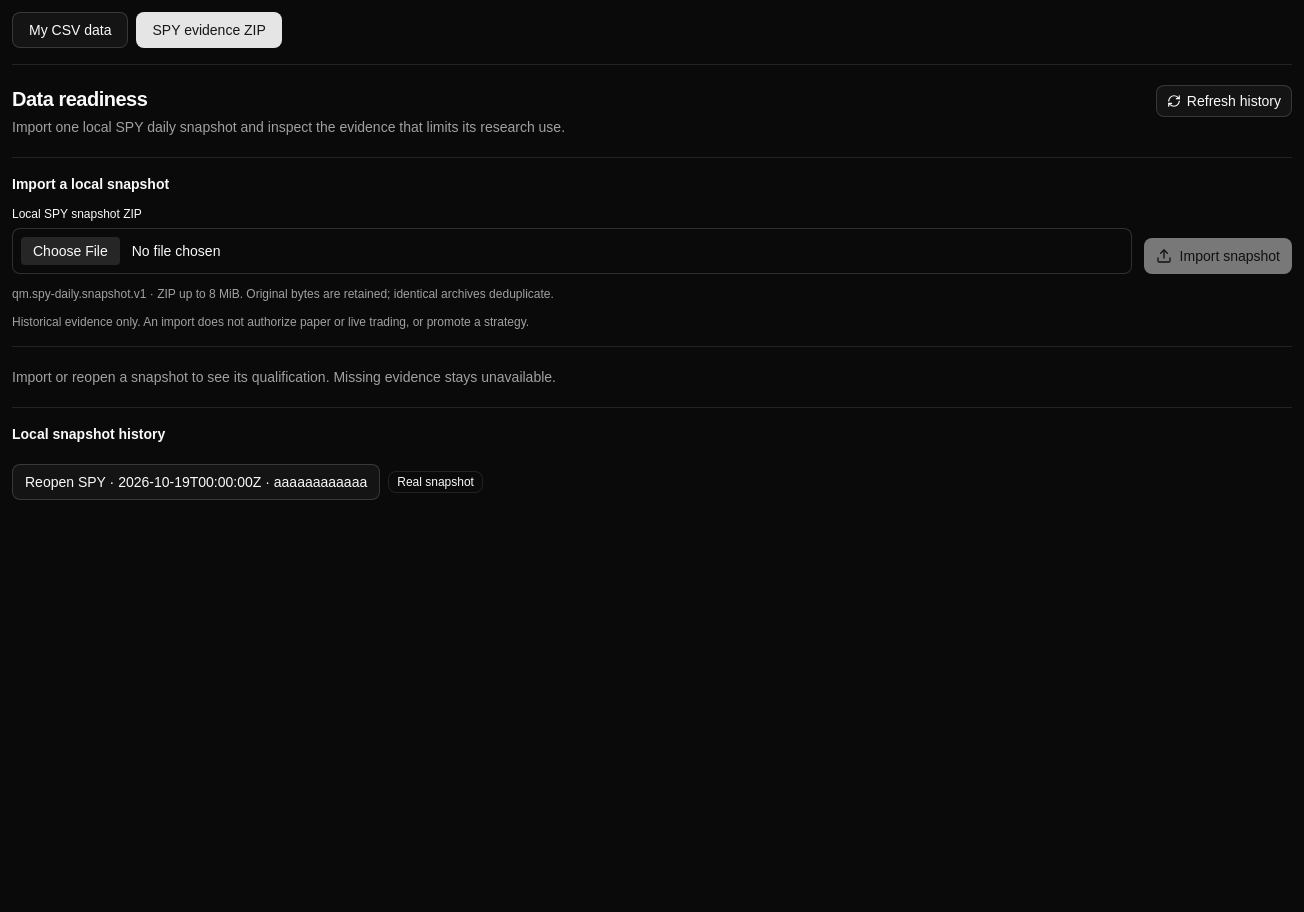
Test: puts both original download actions in qualification before technical checks
Click the button "Reopen SPY · 2026-10-19T00:00:00Z · aaaaaaaaaaaa" at (196, 482), box [12,464,380,500]
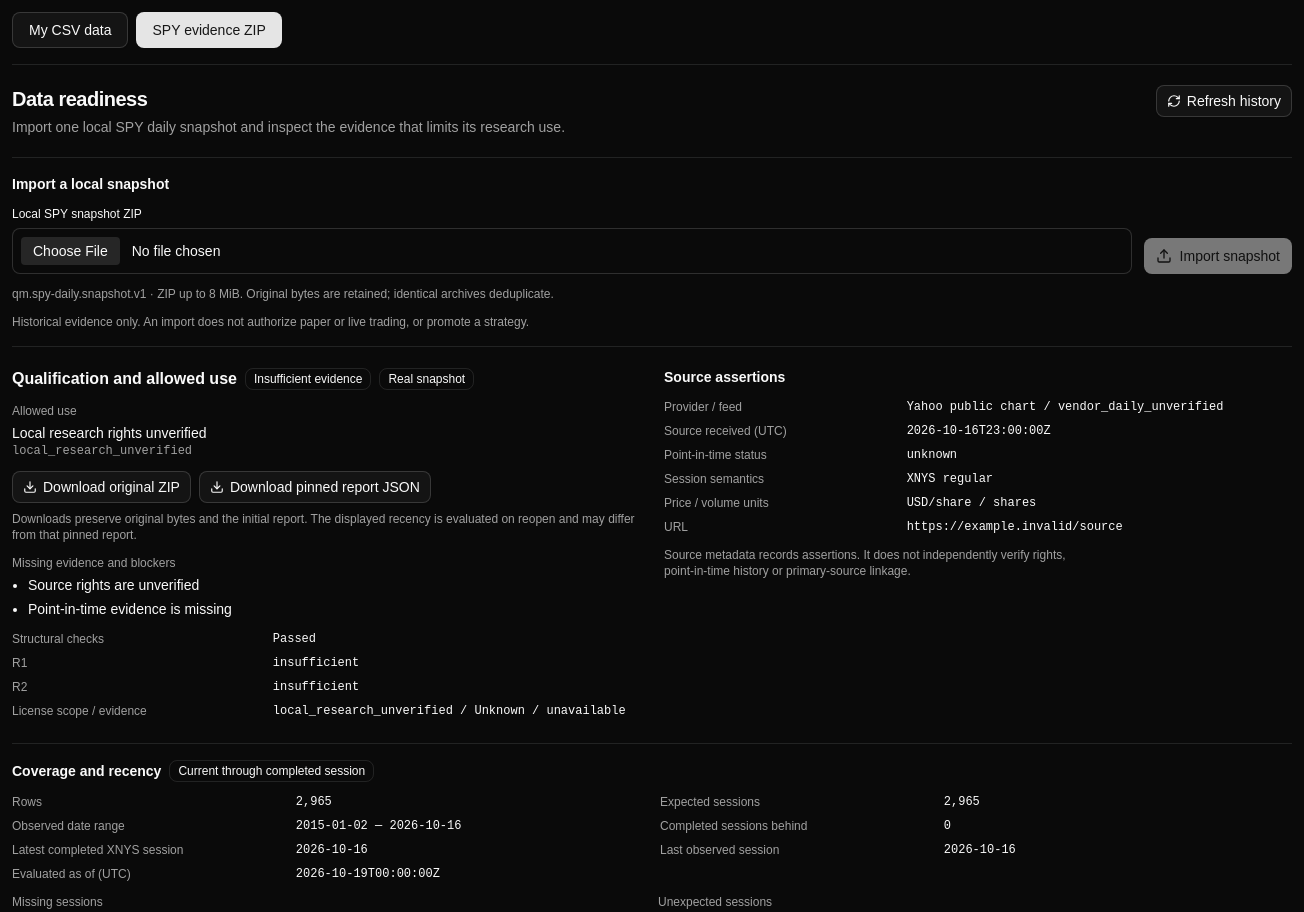
expect the button "Download original ZIP" is enabled: met, box [12,471,191,503]
expect the button "Download pinned report JSON" is enabled: met, box [199,471,431,503]
expect the element "Qualification and allowed use" shows "Downloads preserve original bytes and the initial report": met, box [12,512,635,542]
